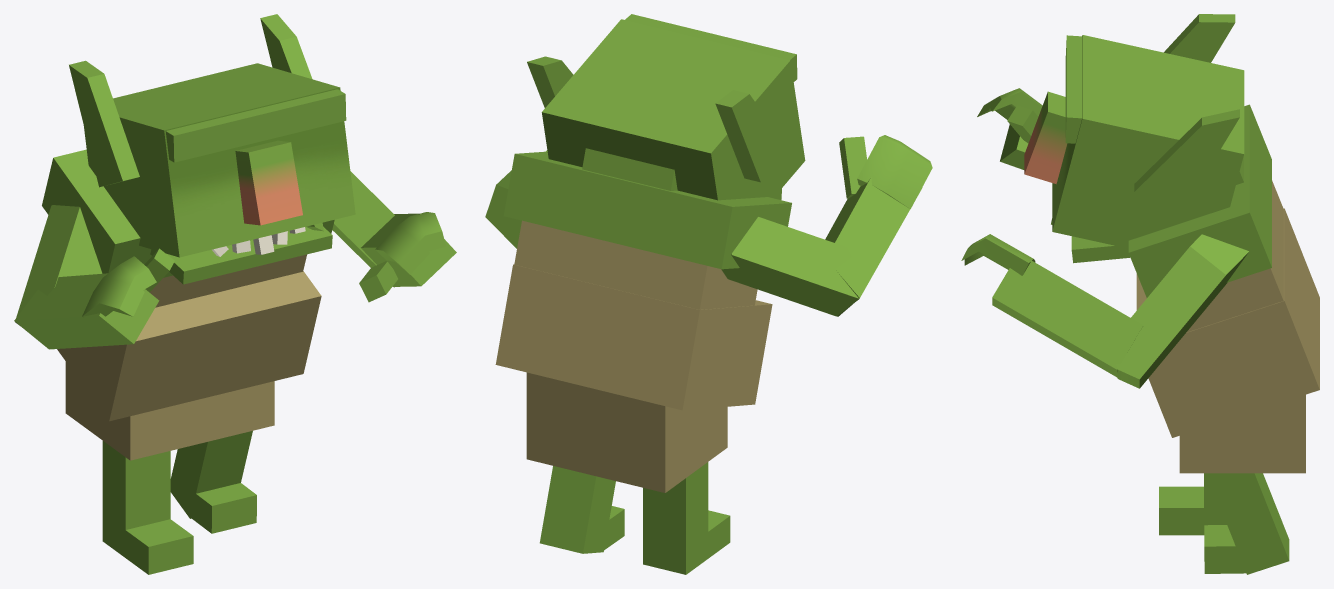
File: Goblin.fbx
3 renders of one model, left to right at view 1: azimuth 30°, elevation 25°; view 2: azimuth 150°, elevation 25°; view 3: azimuth 270°, elevation 25°, orthographic. The views are drawn at different scales.
Parts seen in each view (by area): view 1: group8_pCube234; view 2: group8_pCube234; view 3: group8_pCube234.
Part boxes in pixels (<box>): group8_pCube234: <box>14,14,456,574</box>; group8_pCube234: <box>485,14,932,574</box>; group8_pCube234: <box>961,14,1319,574</box>.
Size of the model in its own units: 3.83 by 4.5 by 3.05.
